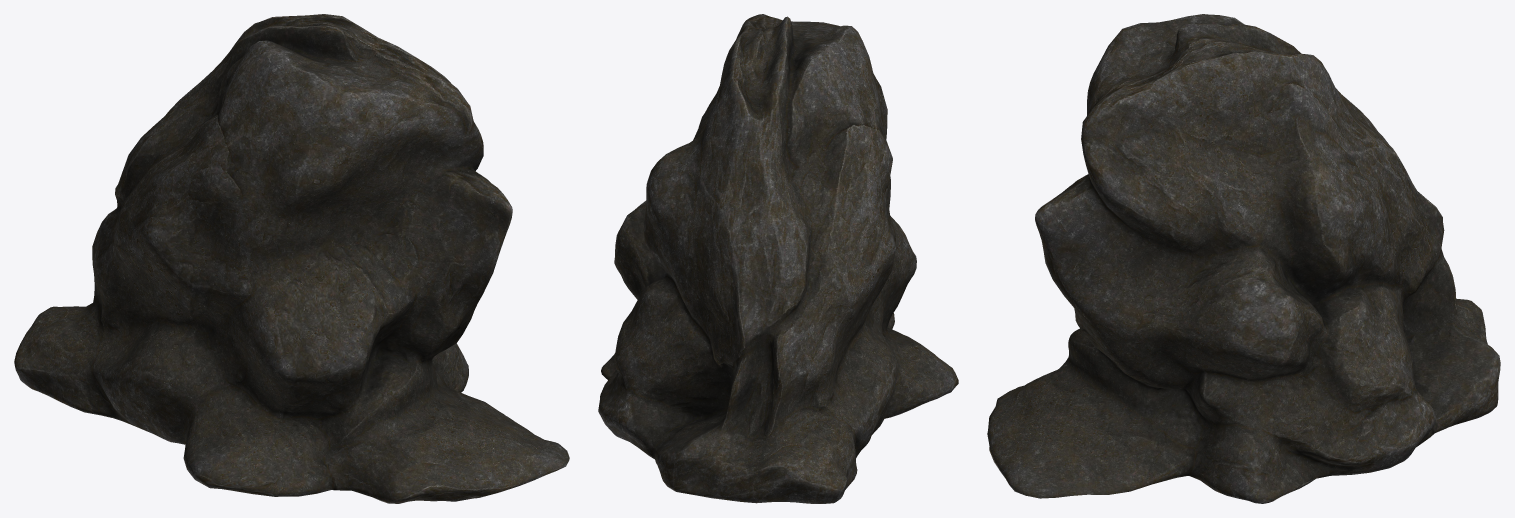
Rendered from set2_rock_15.fbx.
3 renders of one model, left to right at view 1: azimuth 30°, elevation 25°; view 2: azimuth 150°, elevation 25°; view 3: azimuth 270°, elevation 25°, orthographic. The views are drawn at different scales.
Visible parts, largest first — view 1: set2_rock_15; view 2: set2_rock_15; view 3: set2_rock_15.
Boxes of the visible parts, x1=… form: set2_rock_15: x1=14, y1=14, x2=569, y2=503; set2_rock_15: x1=598, y1=14, x2=958, y2=503; set2_rock_15: x1=987, y1=14, x2=1500, y2=503.
Bounding box in the file's own units: 18.53 × 20.13 × 23.38.
Materials: 1 (1 with a texture image).
